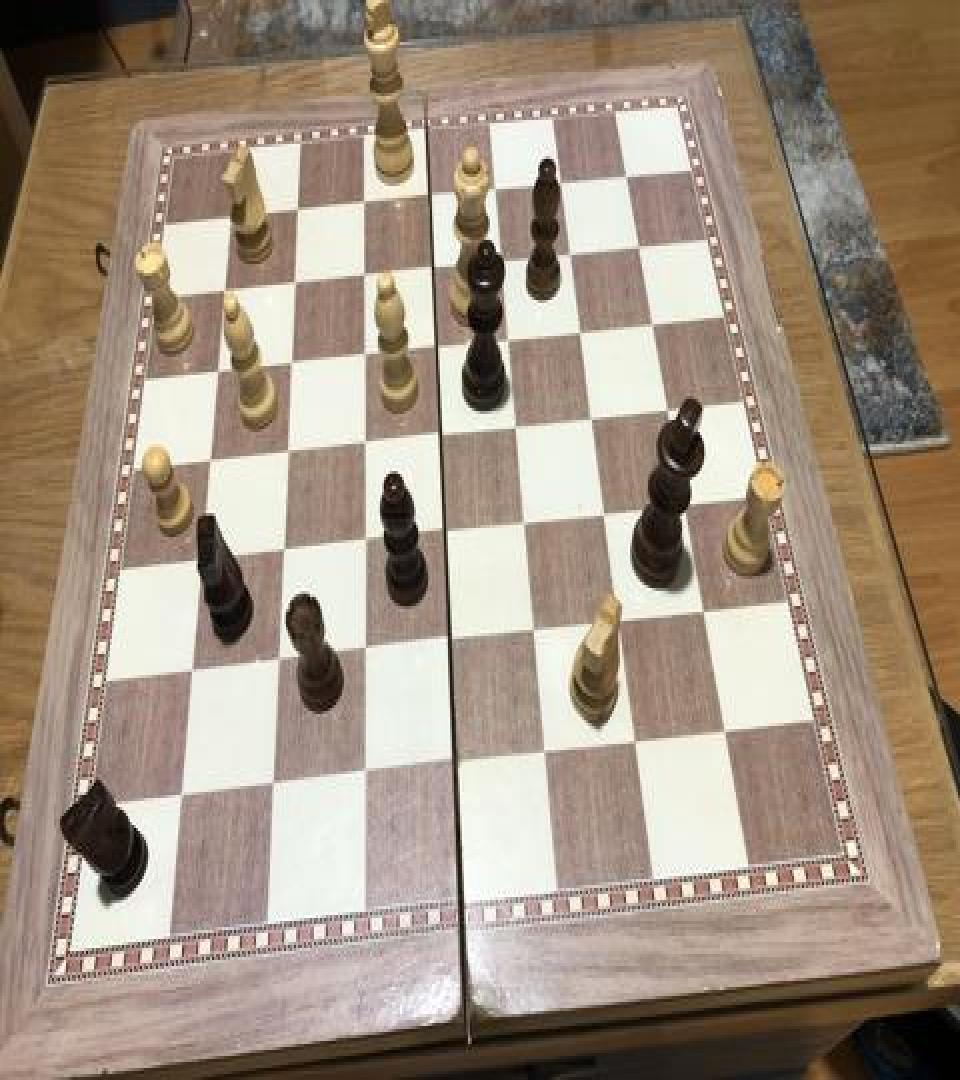xcorner: (442, 748, 466, 785), (260, 769, 284, 806), (609, 154, 633, 190), (545, 160, 569, 196), (480, 168, 504, 204), (414, 174, 438, 210), (349, 180, 373, 216), (217, 194, 241, 230), (622, 225, 646, 261), (554, 232, 578, 268), (486, 238, 510, 274), (418, 246, 442, 282), (349, 254, 373, 290), (280, 261, 304, 297), (211, 268, 235, 304), (637, 303, 661, 339), (565, 310, 589, 346), (494, 318, 518, 354), (422, 326, 446, 362), (350, 334, 374, 370), (277, 342, 301, 378), (204, 350, 228, 386), (652, 390, 676, 426), (577, 398, 601, 434), (502, 406, 526, 442), (426, 414, 450, 450), (350, 423, 374, 459), (196, 440, 220, 476), (670, 486, 694, 522), (591, 495, 615, 531), (511, 504, 535, 540), (431, 513, 455, 549), (350, 522, 374, 558), (269, 531, 293, 567), (188, 540, 212, 576), (690, 594, 714, 630), (606, 604, 630, 640), (521, 614, 545, 650), (436, 624, 460, 660), (351, 633, 375, 669), (265, 644, 289, 680), (179, 654, 203, 690), (712, 716, 736, 752), (622, 726, 646, 762), (533, 738, 557, 774), (351, 759, 375, 795), (168, 782, 192, 818), (283, 188, 307, 223), (273, 431, 297, 466)
